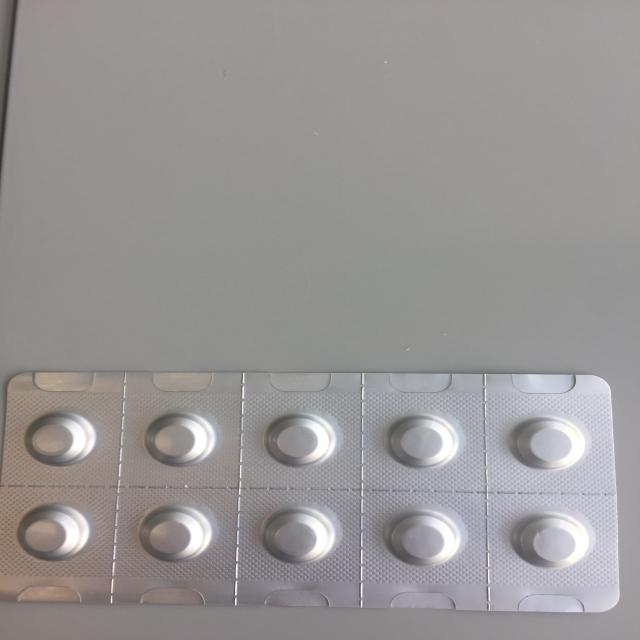Pill: (133, 501, 217, 565), (378, 408, 460, 472), (14, 500, 93, 566), (510, 509, 592, 572), (255, 504, 337, 567), (504, 413, 590, 472), (382, 507, 462, 570), (139, 408, 218, 471), (260, 411, 336, 472), (22, 408, 97, 469)
